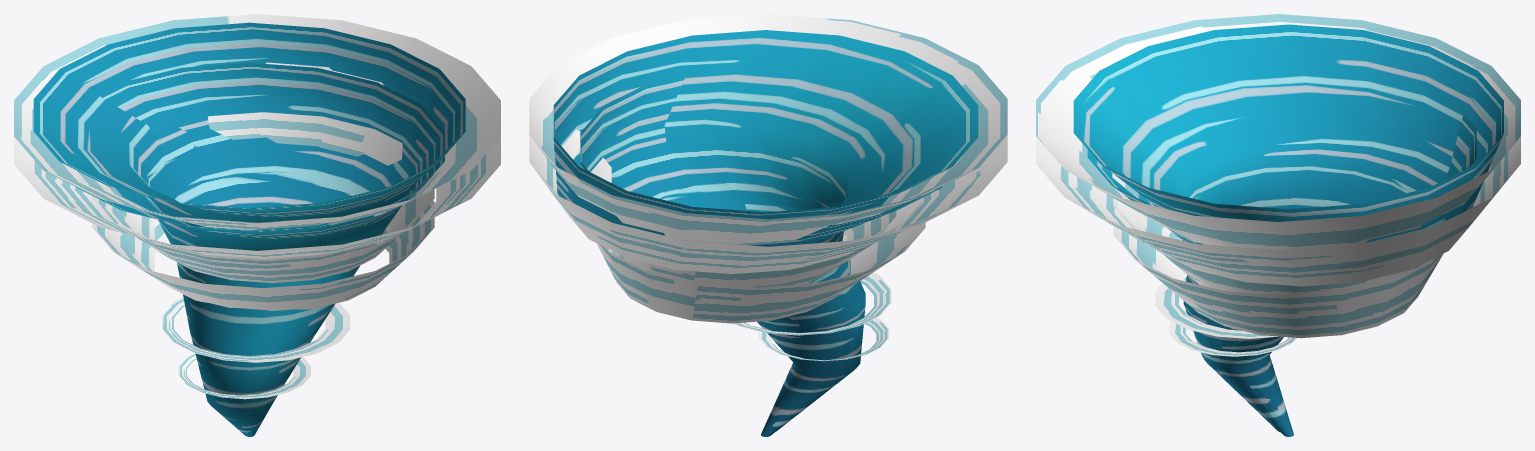
File: Twister.FBX
3 views of the same model, side by side, from view 1: azimuth 30°, elevation 25°; view 2: azimuth 150°, elevation 25°; view 3: azimuth 270°, elevation 25° (orthographic).
Parts seen in each view (by area): view 1: Twister04, Twister05, Twister06, Twister01, Twister02, Twister07, Twister03, Twister00; view 2: Twister04, Twister06, Twister07, Twister02, Twister05, Twister01, Twister03, Twister00; view 3: Twister04, Twister06, Twister07, Twister02, Twister01, Twister05, Twister03, Twister00.
Boxes of the visible parts, x1,y1,x2,y2 form: Twister04: [33, 22, 465, 434]; Twister05: [78, 62, 444, 436]; Twister06: [14, 14, 500, 230]; Twister01: [92, 112, 434, 283]; Twister02: [92, 200, 434, 310]; Twister07: [14, 137, 500, 258]; Twister03: [162, 297, 350, 362]; Twister00: [178, 353, 310, 399]; Twister04: [553, 30, 978, 436]; Twister06: [529, 14, 1007, 245]; Twister07: [529, 135, 1007, 274]; Twister02: [597, 222, 925, 323]; Twister05: [580, 74, 942, 431]; Twister01: [590, 157, 922, 287]; Twister03: [733, 272, 891, 335]; Twister00: [758, 312, 888, 361]; Twister04: [1073, 24, 1503, 436]; Twister06: [1036, 14, 1520, 249]; Twister07: [1036, 136, 1520, 286]; Twister02: [1113, 226, 1443, 338]; Twister01: [1113, 198, 1418, 295]; Twister05: [1087, 114, 1476, 431]; Twister03: [1155, 277, 1277, 338]; Twister00: [1169, 310, 1296, 356].
Size of the model in its own units: 331 by 236 by 326.
